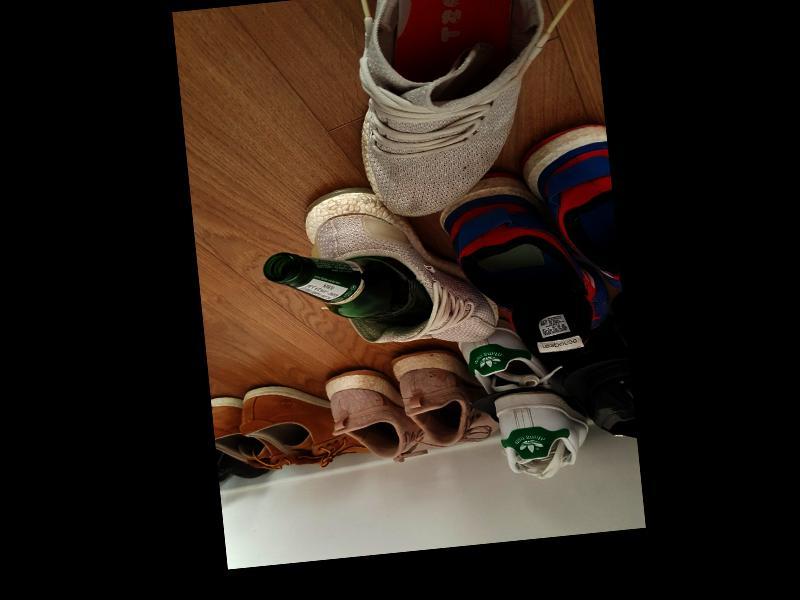Beer: (262, 238, 435, 343)
